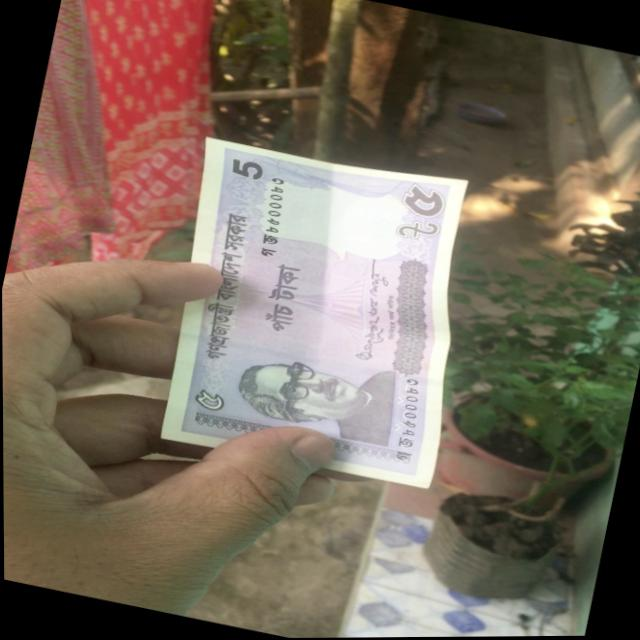Taka: (136, 127, 500, 499)
